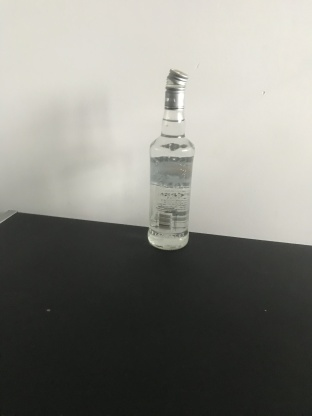nakretka: (162, 66, 189, 110)
